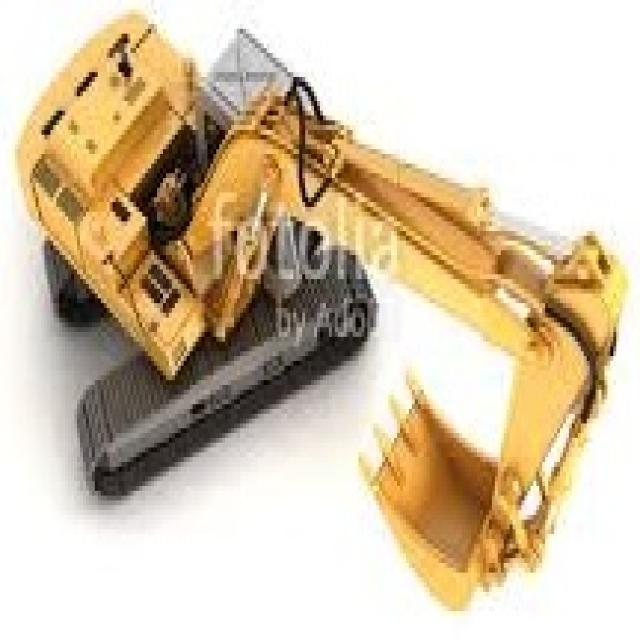excavator: (19, 19, 626, 608)
